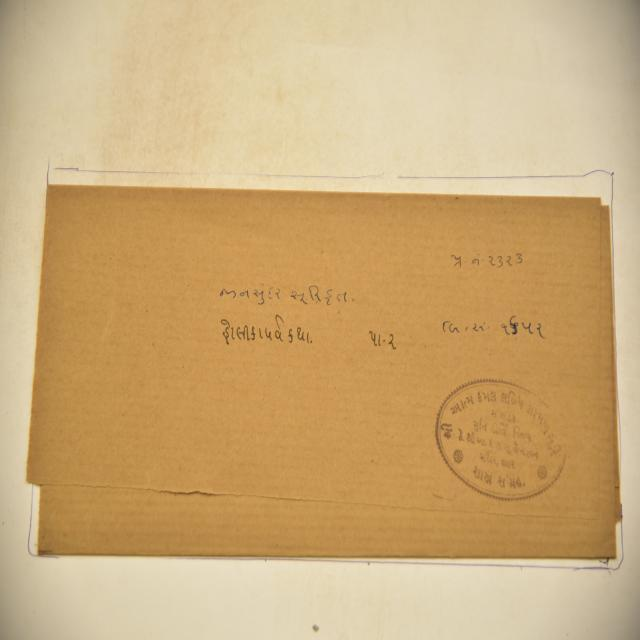text_paragraph: (26, 185, 615, 568)
